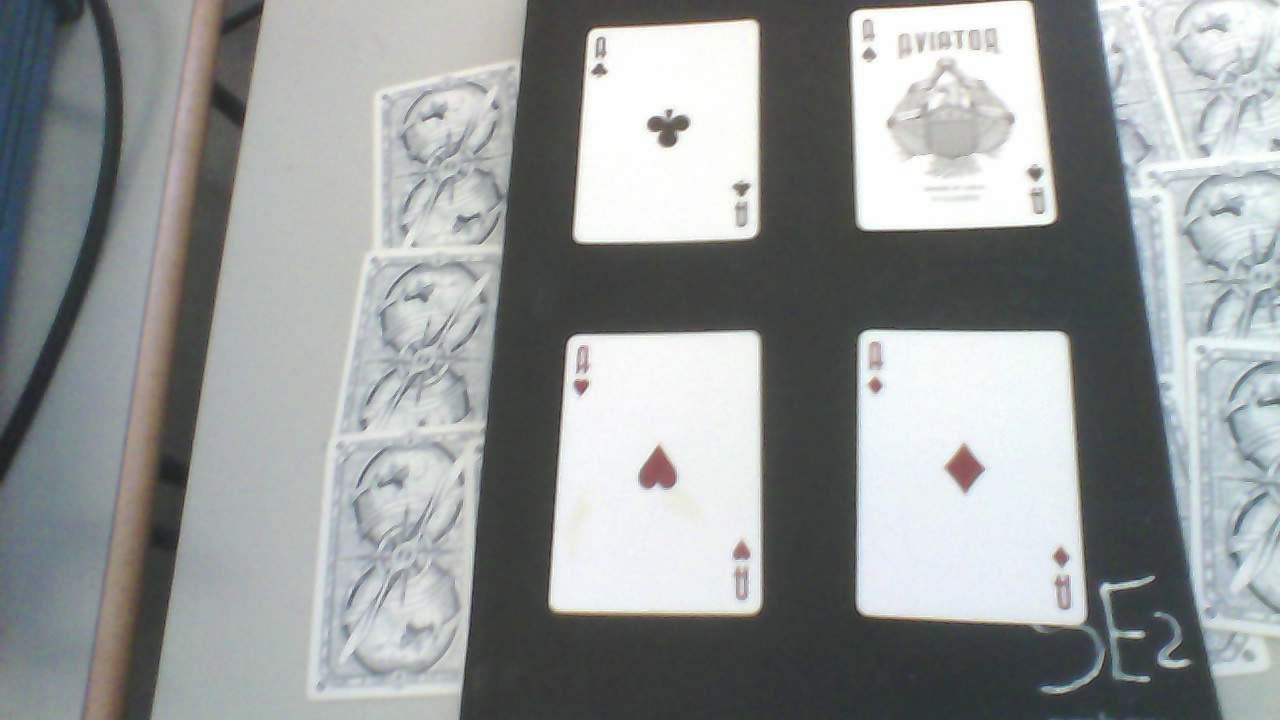ace_clubs: (587, 32, 765, 247)
ace_diamonds: (860, 335, 1091, 626)
ace_hearts: (556, 337, 766, 619)
ace_spades: (851, 12, 1062, 232)
